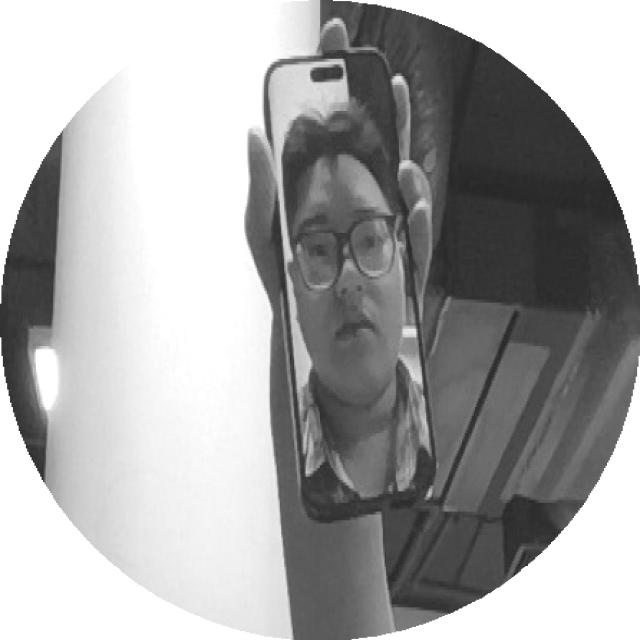fake: (210, 35, 458, 548), (256, 44, 454, 529)
